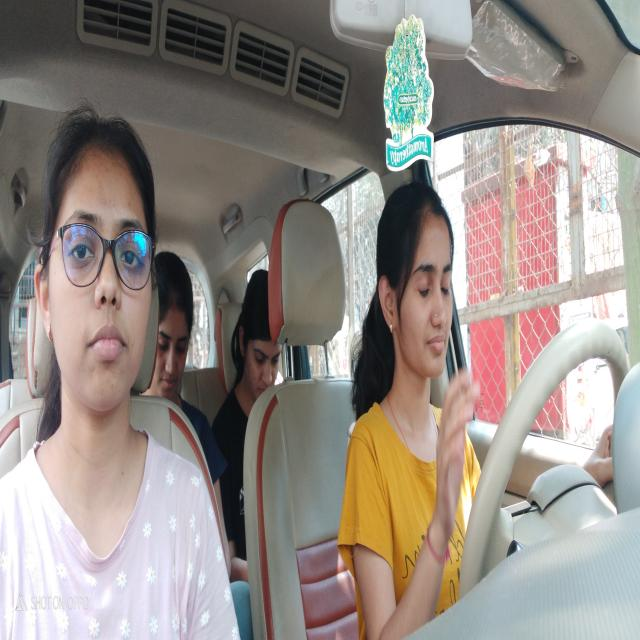drowsy: (373, 177, 458, 388)
person: (30, 103, 158, 420), (230, 268, 286, 398), (155, 252, 198, 415)
